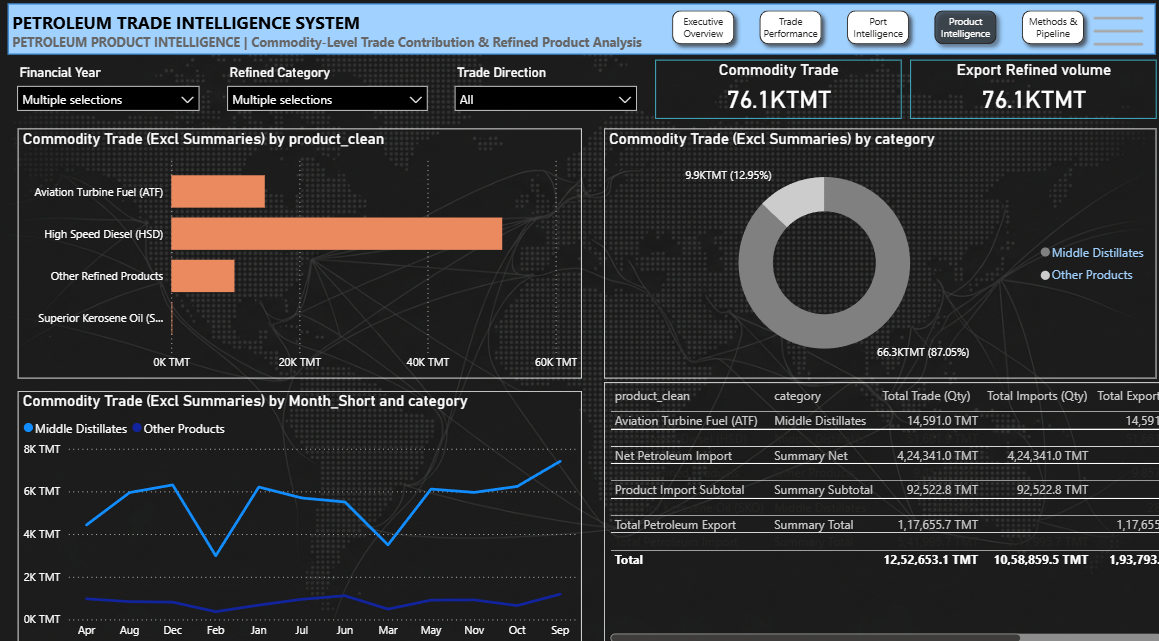

Layout of this report page (visuals, bound fields, positions):
{"tool":"powerbi","page":{"name":"Product Intelligence","canvas":[1280,720],"ordinal":3},"visuals":[{"type":"slicer","fields":{"Values":["Dim_Date.Year"]},"box":[10,70,220,65],"z":0},{"type":"slicer","fields":{"Values":["Dim_Product.category"]},"box":[240,70,240,65],"z":1000},{"type":"slicer","fields":{"Values":["Dim_TradeType.trade_type_name"]},"box":[490,70,220,65],"z":2000},{"type":"card","title":"Commodity Trade","fields":{"Values":["_Measures.Commodity Trade (Excl Summaries)"]},"box":[720,70,270,65],"z":3000},{"type":"card","title":"Export Refined volume","fields":{"Values":["_Measures.Export Trade (Excl Summaries)"]},"box":[1000,70,270,65],"z":4000},{"type":"clusteredBarChart","fields":{"Category":["Dim_Product.product_clean"],"Y":["_Measures.Commodity Trade (Excl Summaries)"]},"box":[20.6,145.5,618.9,274.4],"z":5000},{"type":"donutChart","fields":{"Category":["Dim_Product.category"],"Y":["_Measures.Commodity Trade (Excl Summaries)"]},"box":[664.2,145.5,606.5,274.4],"z":6000},{"type":"lineChart","fields":{"Category":["Dim_Date.Month_Short"],"Series":["Dim_Product.category"],"Y":["_Measures.Commodity Trade (Excl Summaries)"]},"box":[20.6,433.6,618.9,279.9],"z":7000},{"type":"shape","box":[10,8,1260,56],"z":8000},{"type":"textbox","box":[10,11.4,852.9,58.6],"z":9000},{"type":"pageNavigator","box":[730,7.1,471.2,55],"z":10000},{"type":"tableEx","fields":{"Values":["Dim_Product.product_clean","Dim_Product.category","_Measures.Total Trade (Qty)","_Measures.Total Imports (Qty)","_Measures.Total Exports (Qty)","_Measures.Total Trade Value (USD M)"]},"box":[664.2,424,616.1,289.5],"z":11000},{"type":"image","box":[1191.1,0,78.6,80],"z":11001}]}

Visuals, with their boxes in screenshot pixels (x1, y1, x2, y2), scaled from the page's 1280x720 canvas onto the 1159x641 screenshot:
slicer - Dim_Date.Year: left=9, top=62, right=208, bottom=120
slicer - Dim_Product.category: left=217, top=62, right=435, bottom=120
slicer - Dim_TradeType.trade_type_name: left=444, top=62, right=643, bottom=120
"Commodity Trade" card: left=652, top=62, right=896, bottom=120
"Export Refined volume" card: left=905, top=62, right=1150, bottom=120
clusteredBarChart - Dim_Product.product_clean x _Measures.Commodity Trade (Excl Summaries): left=19, top=130, right=579, bottom=374
donutChart - Dim_Product.category x _Measures.Commodity Trade (Excl Summaries): left=601, top=130, right=1151, bottom=374
lineChart - Dim_Date.Month_Short x Dim_Product.category: left=19, top=386, right=579, bottom=635
shape: left=9, top=7, right=1150, bottom=57
textbox: left=9, top=10, right=781, bottom=62
pageNavigator: left=661, top=6, right=1088, bottom=55
tableEx - Dim_Product.product_clean x Dim_Product.category: left=601, top=377, right=1158, bottom=635
image: left=1079, top=0, right=1150, bottom=71
